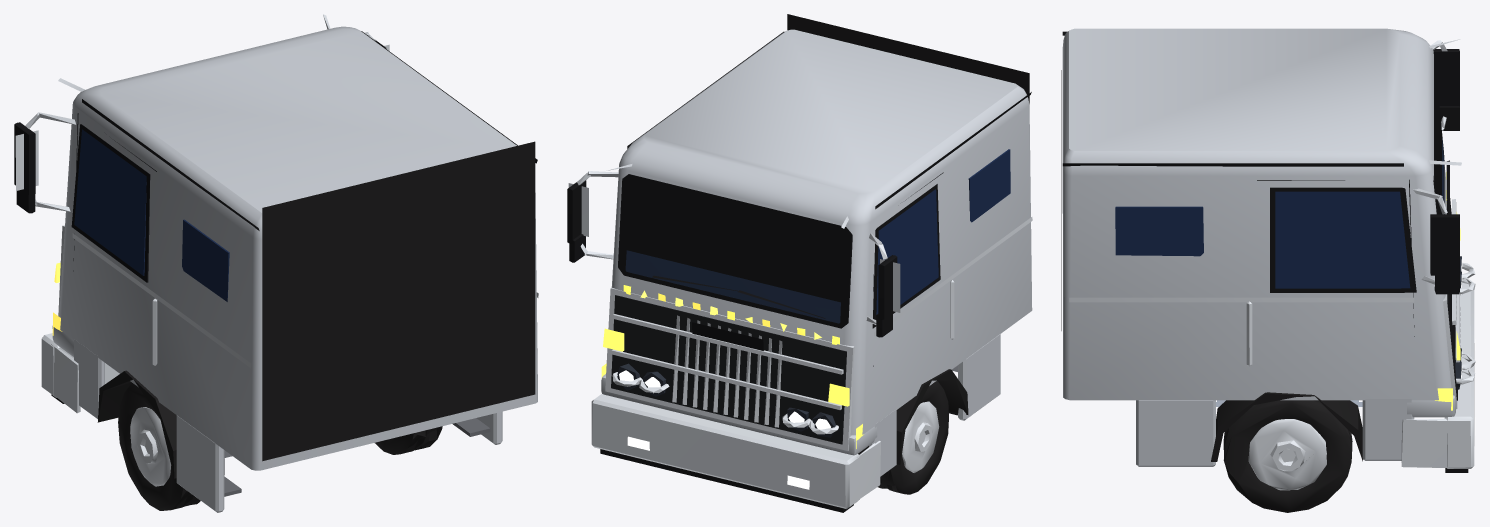
File: cab_flat_quad_lod1.glb
3 renders of one model, left to right at view 1: azimuth 30°, elevation 25°; view 2: azimuth 150°, elevation 25°; view 3: azimuth 270°, elevation 25°, orthographic. The views are drawn at different scales.
Parts seen in each view (by area): view 1: lod1_paint_white_panel, lod1_plastic_trim, lod1_glass, lod1_chrome, lod1_rubber_tire, lod1_plastic_black, lod1_diamond; view 2: lod1_paint_white_panel, lod1_chrome, lod1_plastic_black, lod1_vent_slots, lod1_glass, lod1_plastic_trim, lod1_glass_wind, lod1_rubber_tire, lod1_lamp_amber, lod1_lamp_white, lod1_glass_lens; view 3: lod1_paint_white_panel, lod1_glass, lod1_chrome, lod1_plastic_black, lod1_rubber_tire, lod1_plastic_trim.
Boxes of the visible parts, box(x1,y1,x2,y2) form: lod1_paint_white_panel: box(52, 26, 537, 512); lod1_plastic_trim: box(97, 141, 535, 478); lod1_glass: box(74, 129, 229, 301); lod1_chrome: box(15, 14, 538, 486); lod1_rubber_tire: box(118, 383, 442, 510); lod1_plastic_black: box(14, 31, 537, 403); lod1_diamond: box(224, 418, 490, 496); lod1_paint_white_panel: box(601, 29, 1032, 476); lod1_chrome: box(568, 164, 1032, 508); lod1_plastic_black: box(567, 31, 1031, 512); lod1_vent_slots: box(611, 295, 846, 444); lod1_glass: box(876, 149, 1010, 314); lod1_plastic_trim: box(787, 14, 1029, 464); lod1_glass_wind: box(625, 250, 840, 323); lod1_rubber_tire: box(878, 381, 948, 494); lod1_lamp_amber: box(601, 285, 863, 448); lod1_lamp_white: box(619, 370, 830, 489); lod1_glass_lens: box(617, 363, 835, 437); lod1_paint_white_panel: box(1062, 28, 1455, 466); lod1_glass: box(1115, 191, 1410, 288); lod1_chrome: box(1069, 39, 1475, 490); lod1_plastic_black: box(1062, 31, 1468, 472); lod1_rubber_tire: box(1223, 400, 1352, 512); lod1_plastic_trim: box(1061, 70, 1363, 461).
Bounding box in the file's own units: 3.24 × 3.2 × 3.22.
15 materials, 6 textured.
